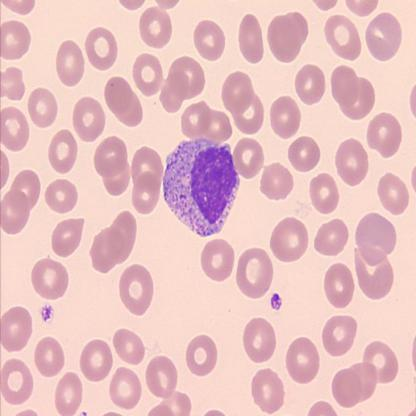Metamyelocyte: (161, 136, 242, 238)
